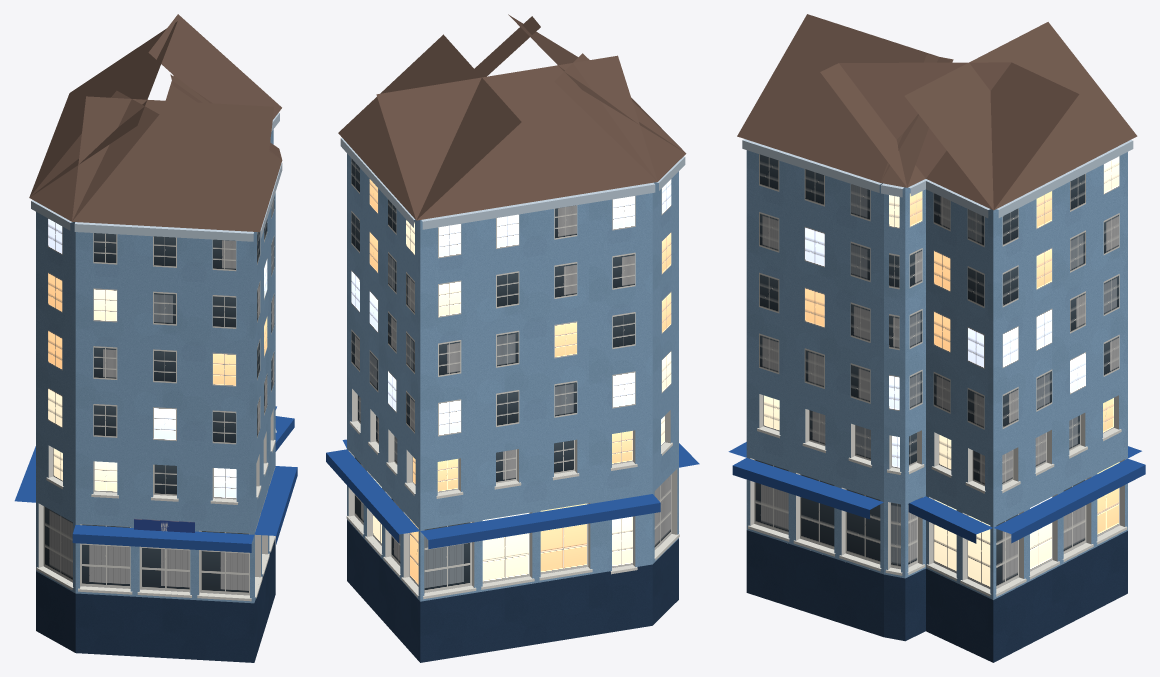
The model's file is langC_midway.glb.
3 views of the same model, side by side, from view 1: azimuth 30°, elevation 25°; view 2: azimuth 150°, elevation 25°; view 3: azimuth 270°, elevation 25° (orthographic). The views are drawn at different scales.
Parts seen in each view (by area): view 1: langC_midway; view 2: langC_midway; view 3: langC_midway.
Boxes of the visible parts, bbox=[...] form: langC_midway: bbox=[14, 14, 297, 662]; langC_midway: bbox=[326, 14, 699, 662]; langC_midway: bbox=[728, 14, 1145, 662].
Bounding box in the file's own units: 15.53 × 25.83 × 18.07.
3 materials, 3 textured.
